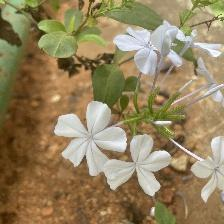chitrak: (51, 103, 125, 183), (106, 135, 174, 198), (114, 27, 182, 75), (190, 136, 224, 199)
